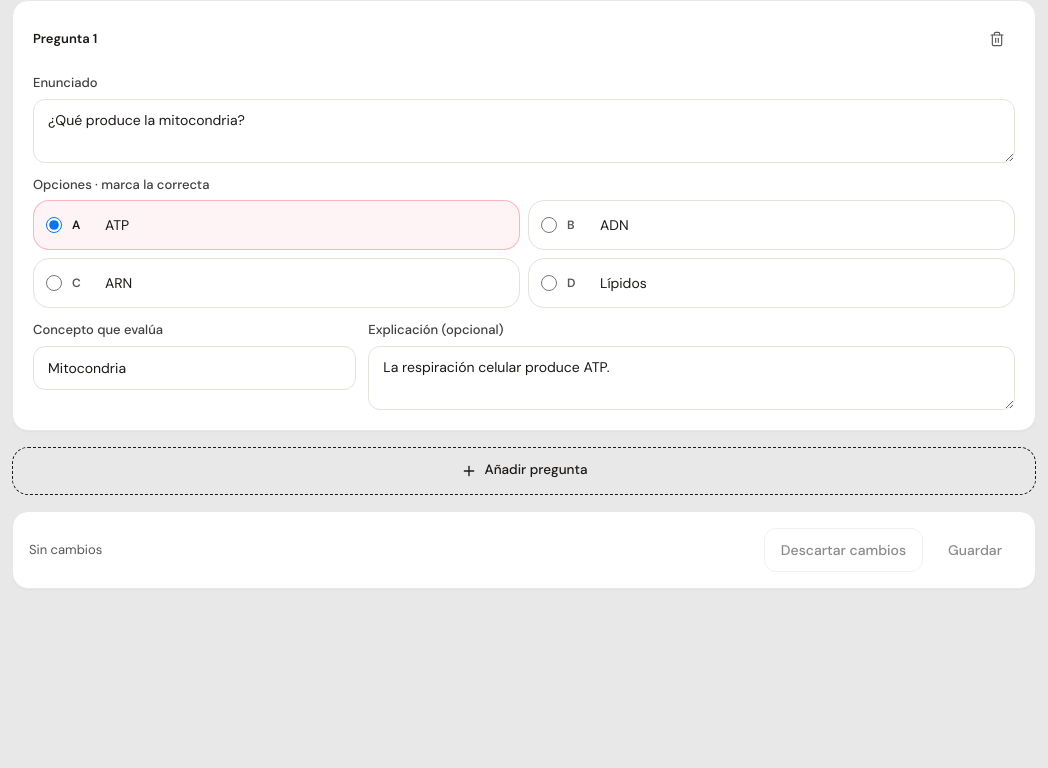
ExamQuestionsEditor › explains a EXAMS_QUESTION_CHANGED refusal and keeps the draft
Replace the text in the text box labelled "Enunciado" with "¿Nueva?" at (524,130), box [33,98,1015,162]
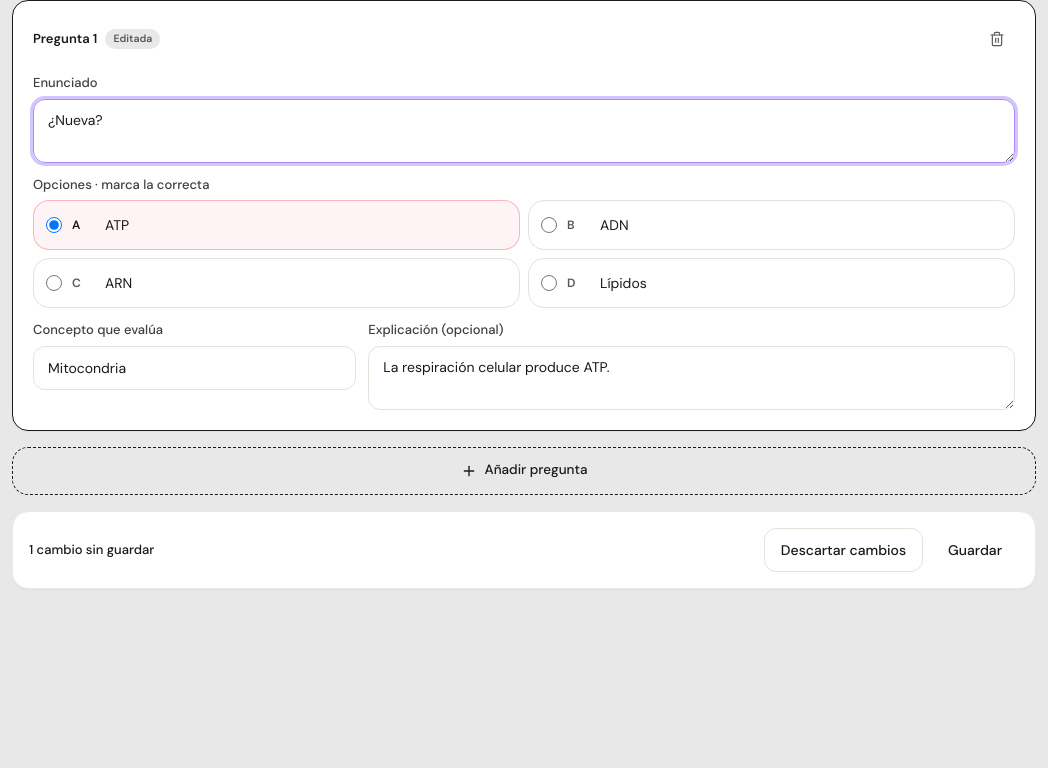
Click the button "Guardar".
click(975, 550)  # box [931,528,1019,572]
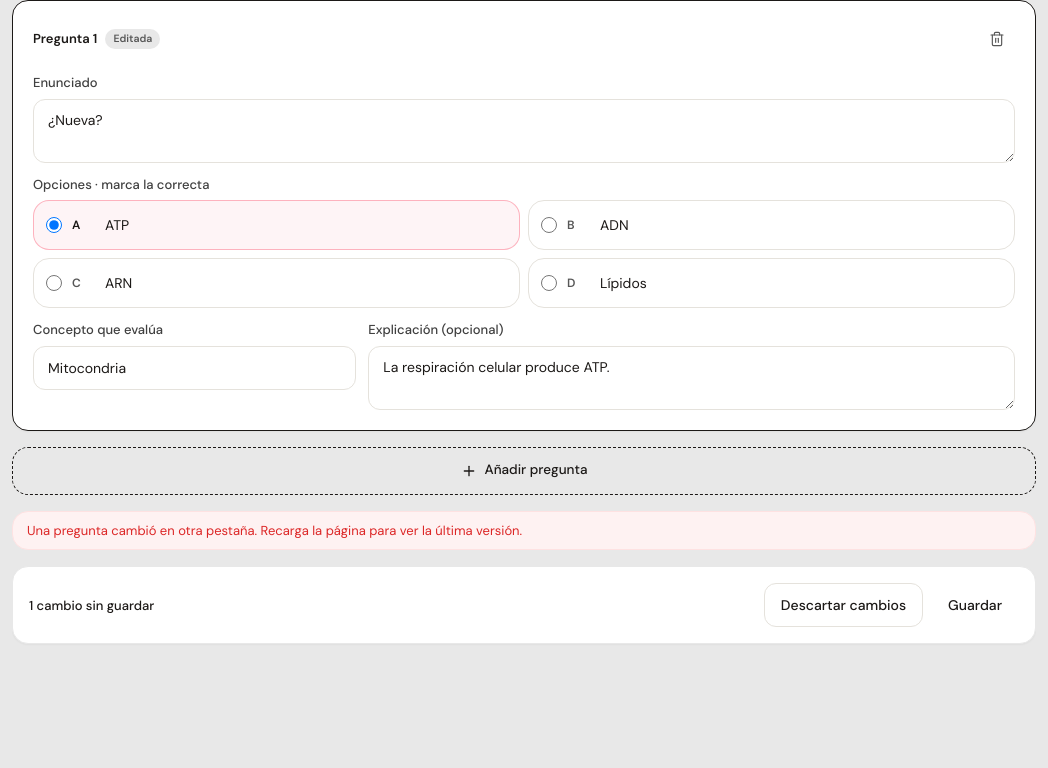
Expected: the text "1 cambio sin guardar" is shown, [29,596,154,615]
Expected: the message shows "cambió en otra pestaña", [27,522,522,538]
